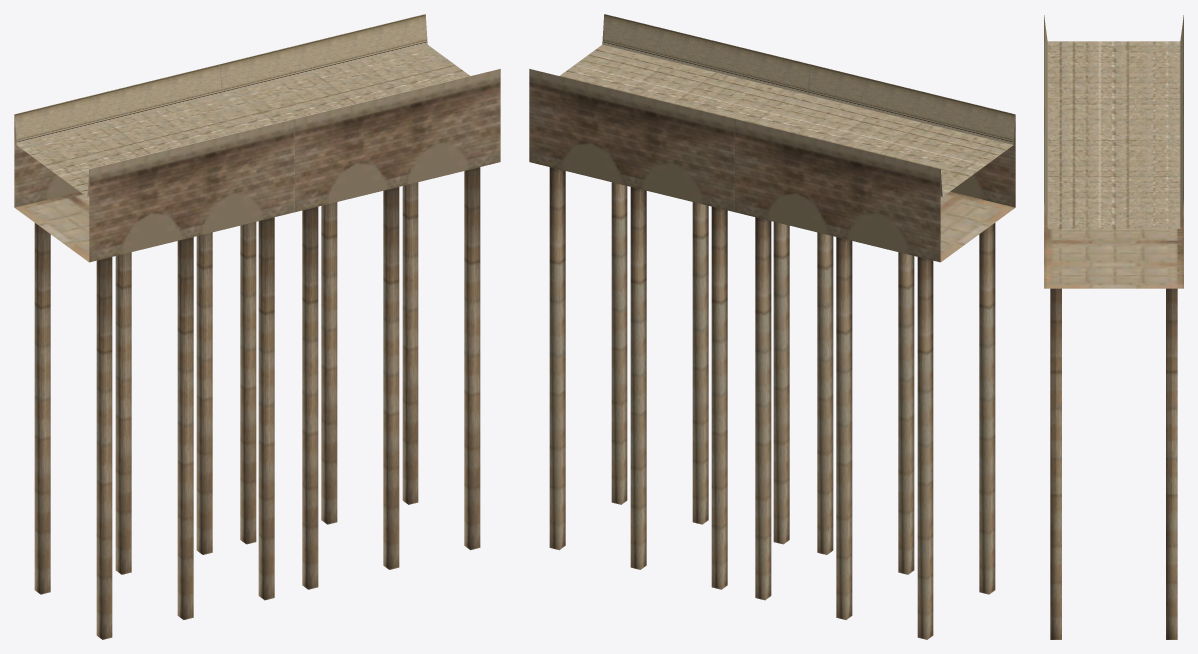
The model's file is thm_nboo_imprv_elevated_walkway_s02_l4.fbx.
3 views of the same model, side by side, from view 1: azimuth 30°, elevation 25°; view 2: azimuth 150°, elevation 25°; view 3: azimuth 270°, elevation 25° (orthographic). The views are drawn at different scales.
Parts seen in each view (by area): view 1: mesh_node; view 2: mesh_node; view 3: mesh_node.
Boxes of the visible parts, x1=… form: mesh_node: x1=14, y1=14, x2=500, y2=639; mesh_node: x1=529, y1=14, x2=1015, y2=639; mesh_node: x1=1044, y1=15, x2=1183, y2=639.
Size of the model in its own units: 16.5 by 18.3 by 5.2.
